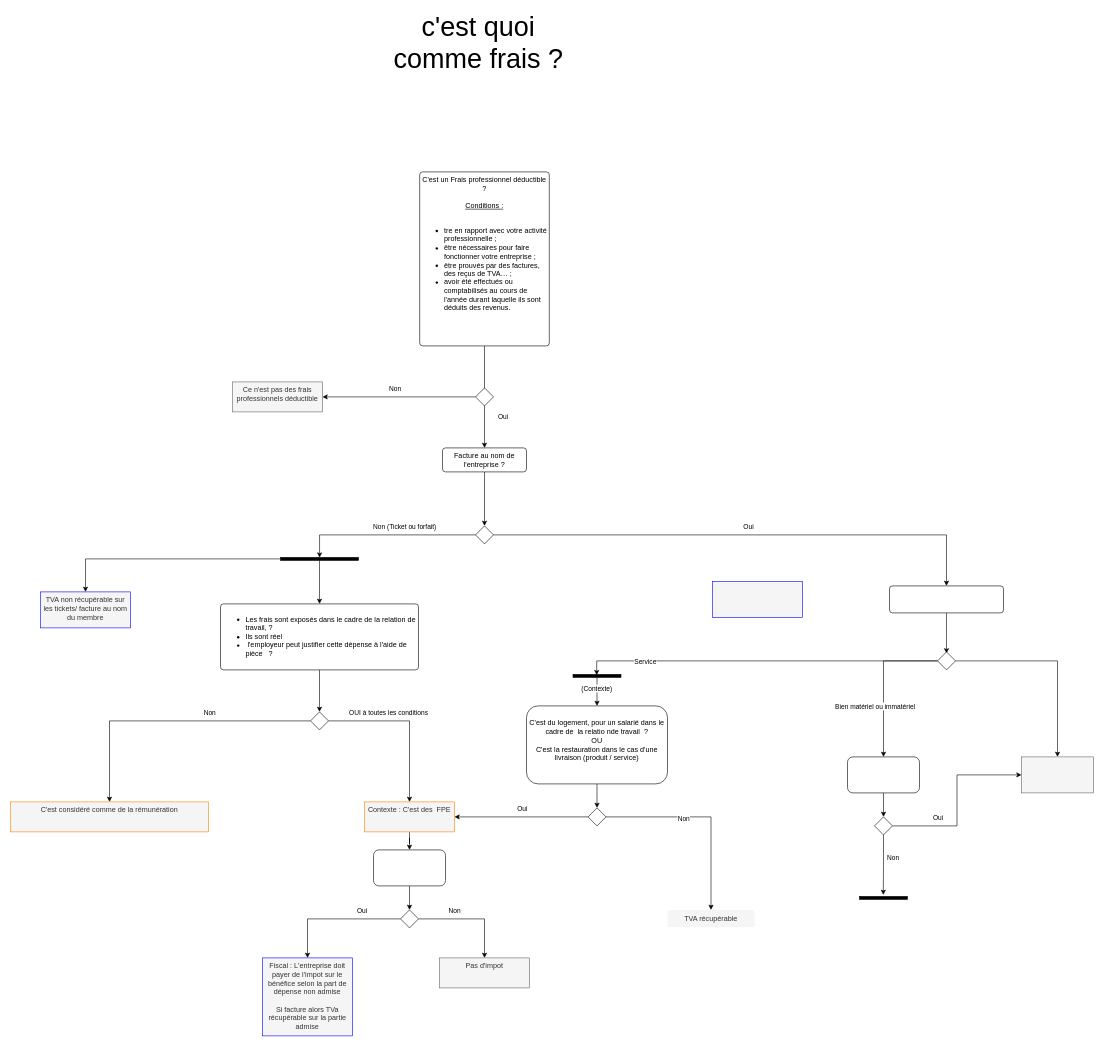
This 1104x1046 diagram has some shape labels left out. The centre of each missing label's shape, as x and y in pixels:
"Est considéré comme du stock" belongs at (x=1057, y=774).
"Il a un usage d'achat revente ?" belongs at (x=883, y=774).
"Quels est le type d'achat ?" belongs at (x=946, y=599).
"TVA à priori récupérable (sauf DNA, usage partiellement privé..)" belongs at (x=757, y=599).
"Une part de la dépense est t'elle considéré comme DNA ?" belongs at (x=409, y=867).
